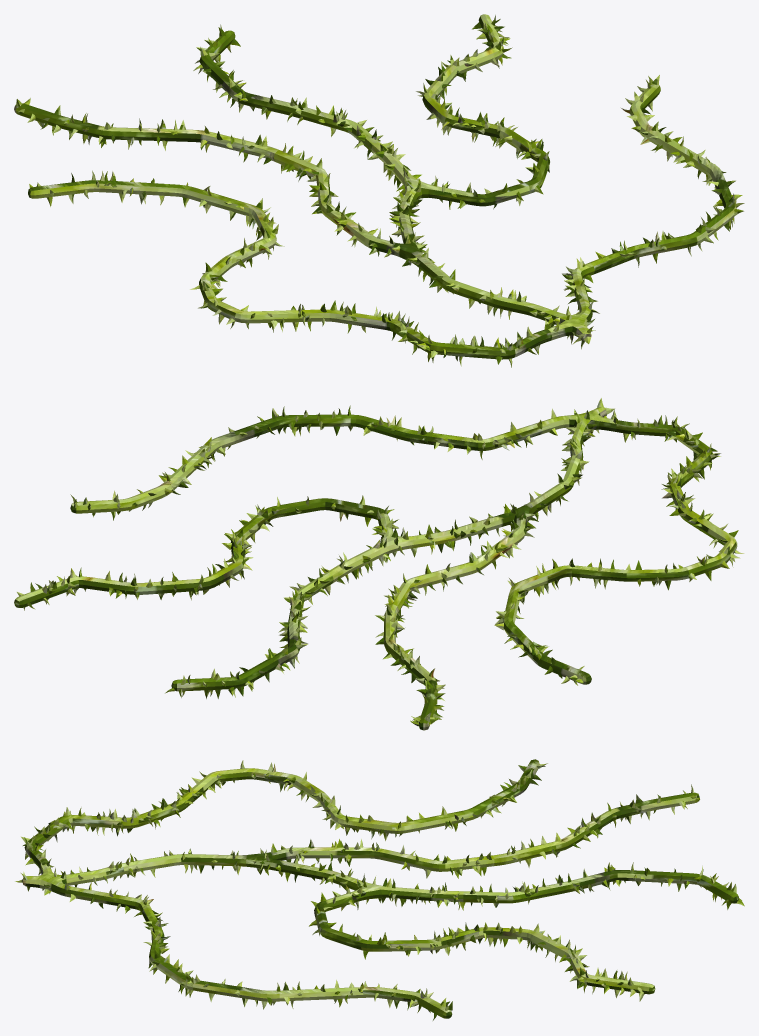
The model's file is tappuraiso.fbx.
The picture shows the model from 3 angles, top to bottom: view 1: azimuth 30°, elevation 25°; view 2: azimuth 150°, elevation 25°; view 3: azimuth 270°, elevation 25°; orthographic projection. The views are drawn at different scales.
Parts seen in each view (by area): view 1: BezierCurve.005; view 2: BezierCurve.005; view 3: BezierCurve.005.
Part boxes in pixels (left/top/right/bottom): BezierCurve.005: left=14, top=14, right=744, bottom=367; BezierCurve.005: left=14, top=398, right=744, bottom=730; BezierCurve.005: left=15, top=759, right=744, bottom=1020.
Bounding box in the file's own units: 2441 × 134 × 2972.
